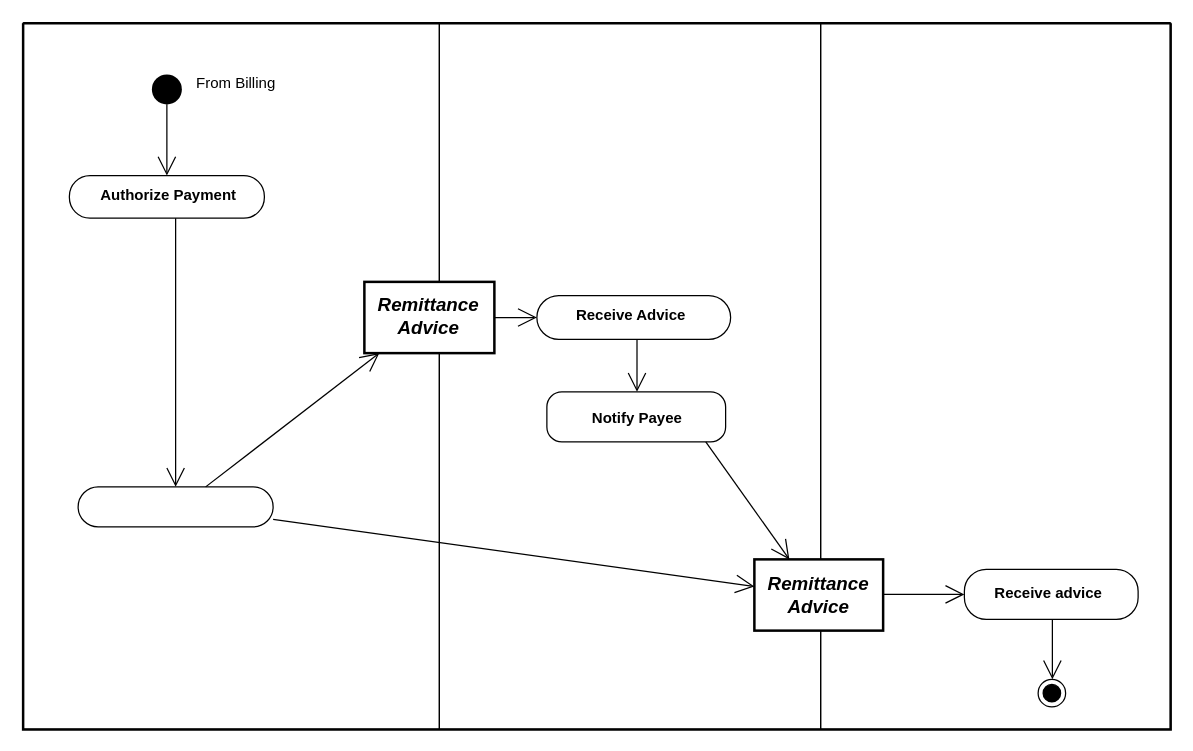
This 1193x751 diagram has some shape labels left out. Each missing label, with the box of its shape:
Accounting Customer: (22, 22, 439, 729)
Accounting Supplier: (438, 22, 821, 729)
Notify of Payment: (77, 486, 273, 527)
Payee Party: (819, 22, 1171, 729)
